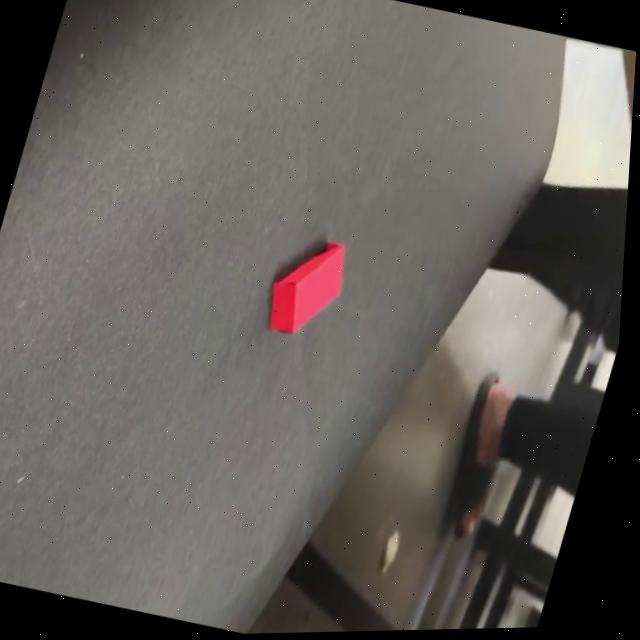red block: (257, 231, 354, 346)
